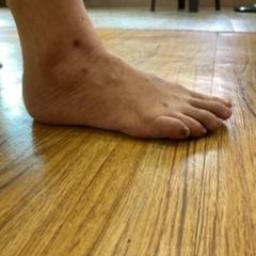Lateral View -Right Foot-: (3, 10, 249, 160)
